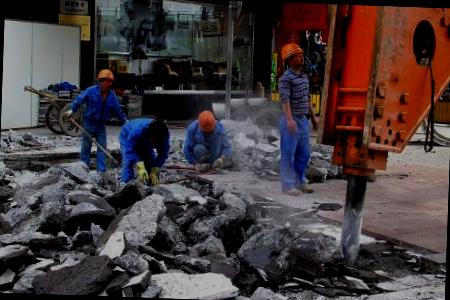no_helmet: (146, 116, 170, 147)
